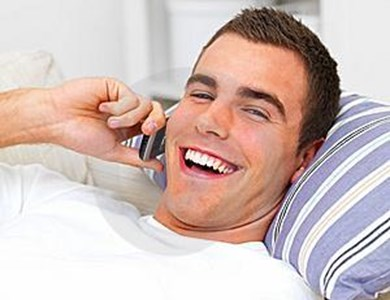phone: (126, 92, 173, 163)
talk: (72, 47, 299, 223)
